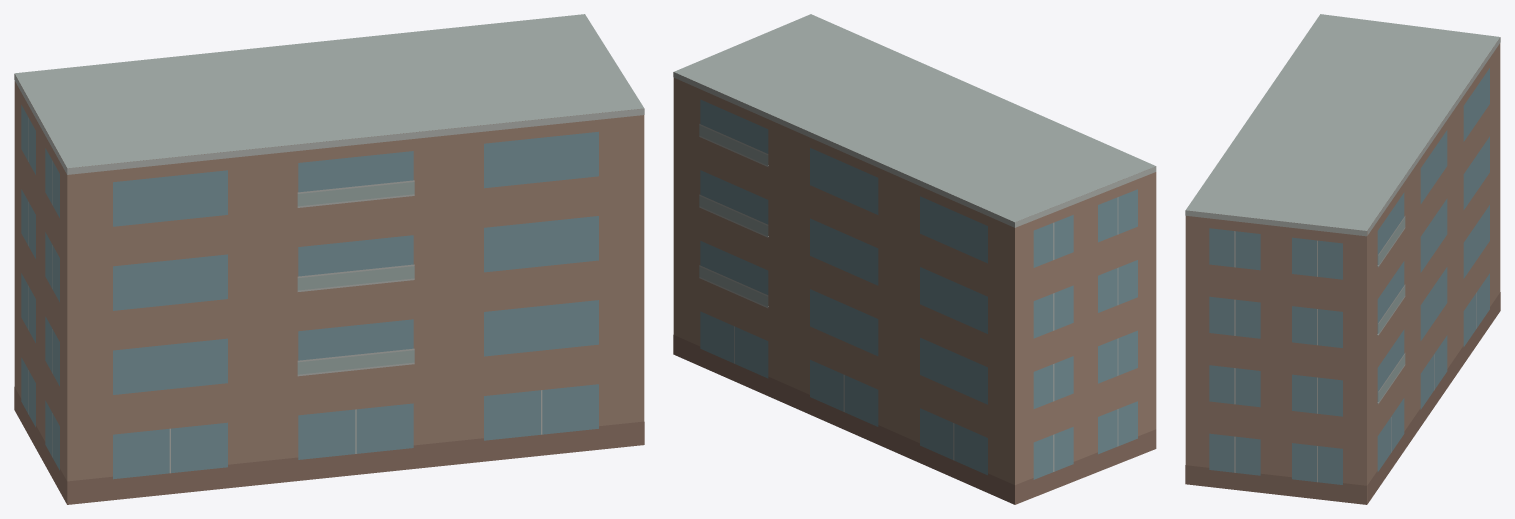
The model's file is survey-upis-32995527.glb.
3 renders of one model, left to right at view 1: azimuth 30°, elevation 25°; view 2: azimuth 150°, elevation 25°; view 3: azimuth 270°, elevation 25°, orthographic. The views are drawn at different scales.
Visible parts, largest first — view 1: survey-upis-32995527.tmp; view 2: survey-upis-32995527.tmp; view 3: survey-upis-32995527.tmp.
Part boxes in pixels (x1,y1,x2,y2): survey-upis-32995527.tmp: (14, 14, 644, 504); survey-upis-32995527.tmp: (673, 14, 1156, 504); survey-upis-32995527.tmp: (1185, 14, 1500, 504).
Size of the model in its own units: 21.08 by 12.4 by 12.93.
